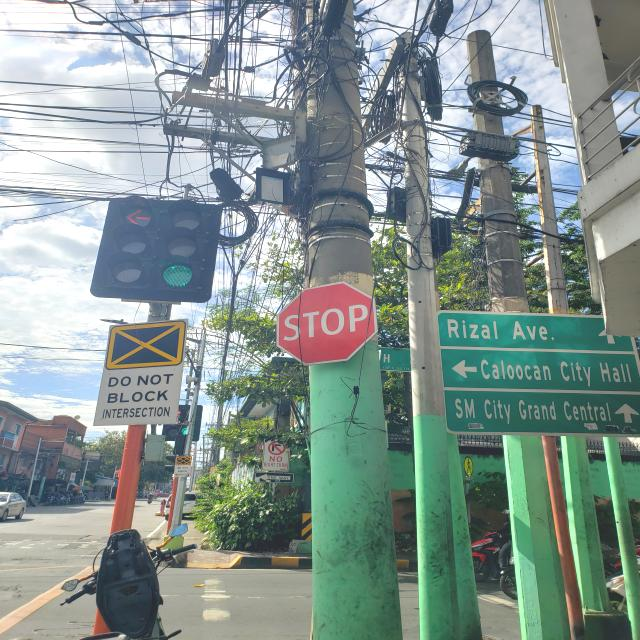stop-sign: (276, 281, 379, 366)
